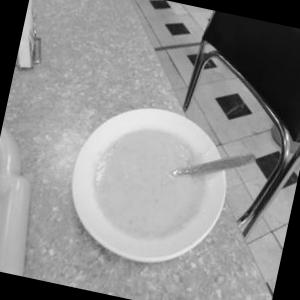porridge: (56, 108, 231, 272)
